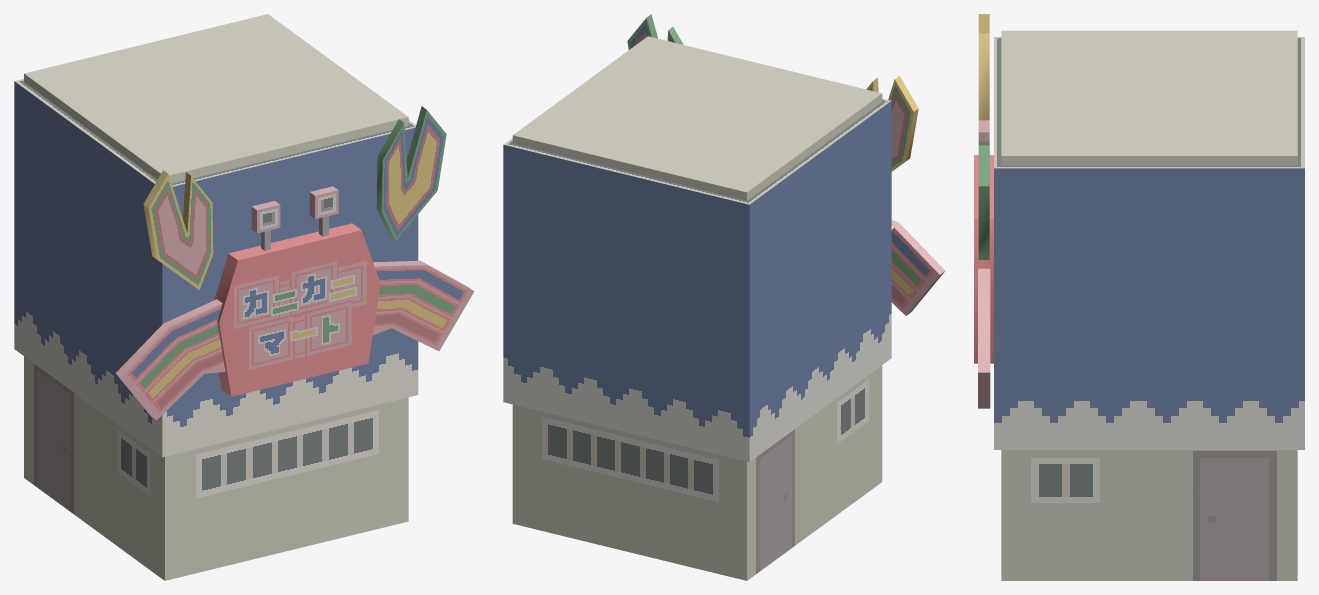
File: 0265_Supermarket_Sign.glb
3 views of the same model, side by side, from view 1: azimuth 30°, elevation 25°; view 2: azimuth 150°, elevation 25°; view 3: azimuth 270°, elevation 25° (orthographic). The views are drawn at different scales.
Visible parts, largest first — view 1: part_0; view 2: part_0; view 3: part_0.
Boxes of the visible parts, x1=… form: part_0: x1=14, y1=14, x2=474, y2=580; part_0: x1=503, y1=14, x2=945, y2=580; part_0: x1=974, y1=14, x2=1304, y2=580.
Size of the model in its own units: 5.79 by 6.55 by 4.47.
Materials: 1 (1 with a texture image).
